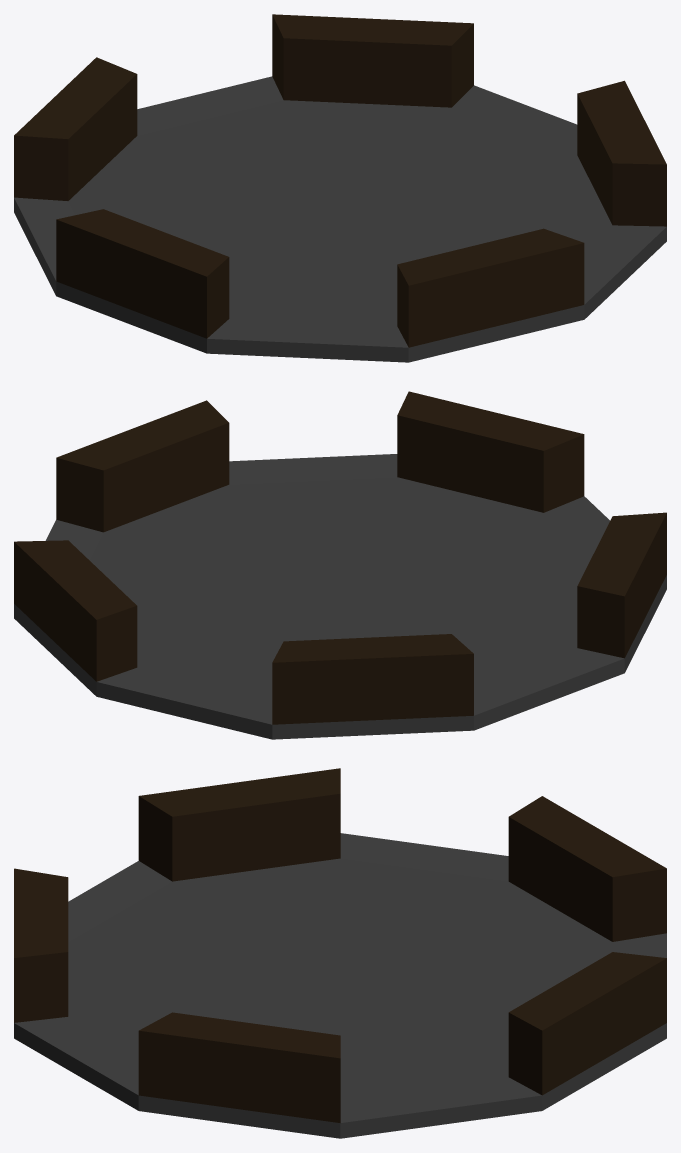
File: TowerTop.glb
3 views of the same model, one above another, from view 1: azimuth 30°, elevation 25°; view 2: azimuth 150°, elevation 25°; view 3: azimuth 270°, elevation 25° (orthographic). The views are drawn at different scales.
Visible parts, largest first — view 1: Cylinder; view 2: Cylinder; view 3: Cylinder.
Boxes of the visible parts, <box> form: Cylinder: <box>14,14,666,362</box>; Cylinder: <box>14,391,666,739</box>; Cylinder: <box>14,768,666,1138</box>.
Bounding box in the file's own units: 48 × 6.2 × 45.65.
